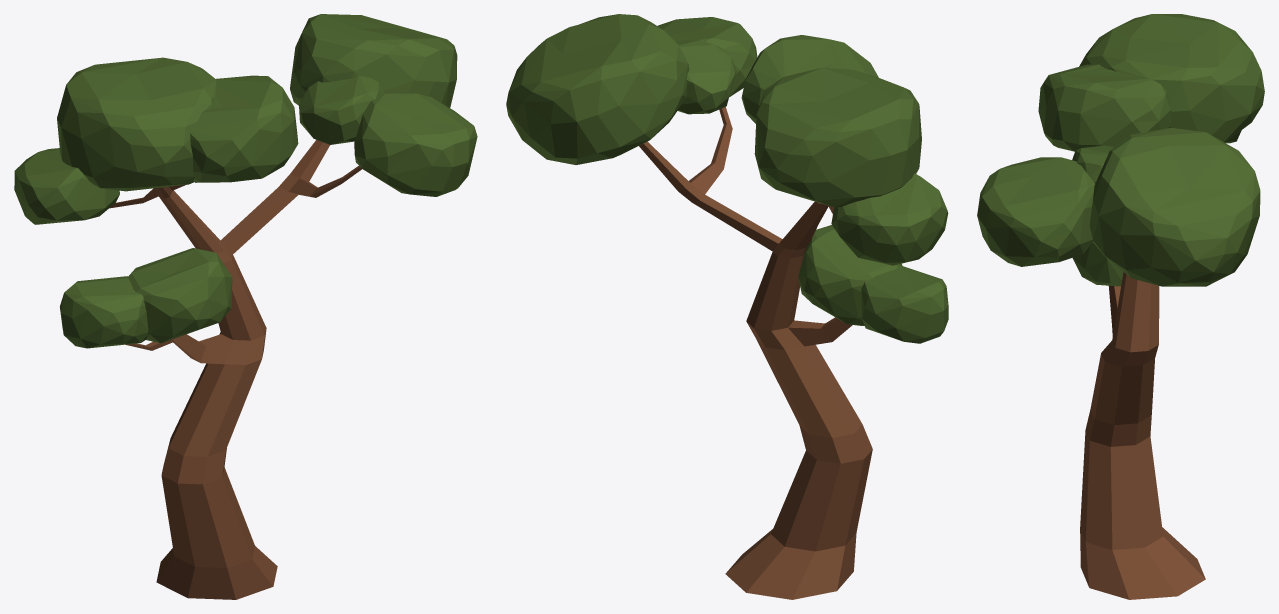
Rendered from arbol 4.fbx.
3 renders of one model, left to right at view 1: azimuth 30°, elevation 25°; view 2: azimuth 150°, elevation 25°; view 3: azimuth 270°, elevation 25°, orthographic.
Visible parts, largest first — view 1: arbol_4; view 2: arbol_4; view 3: arbol_4.
Boxes of the visible parts, x1,y1,x2,y2 form: arbol_4: (14, 14, 477, 599); arbol_4: (506, 14, 948, 599); arbol_4: (977, 14, 1264, 599).
Size of the model in its own units: 1075 by 1227 by 632.
